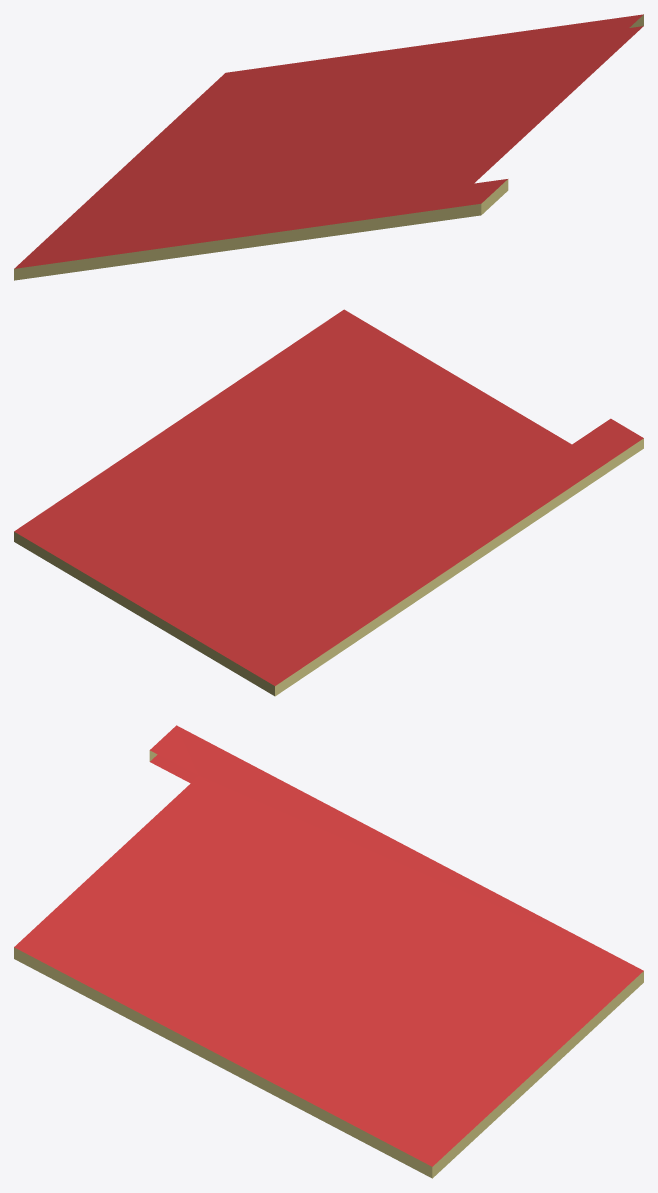
3 views of the same model, one above another, from view 1: azimuth 90°, elevation 25°; view 2: azimuth 150°, elevation 25°; view 3: azimuth 270°, elevation 25° (orthographic). The views are drawn at different scales.
Size of the model in its own units: 5.24 by 4.88 by 1.43.
